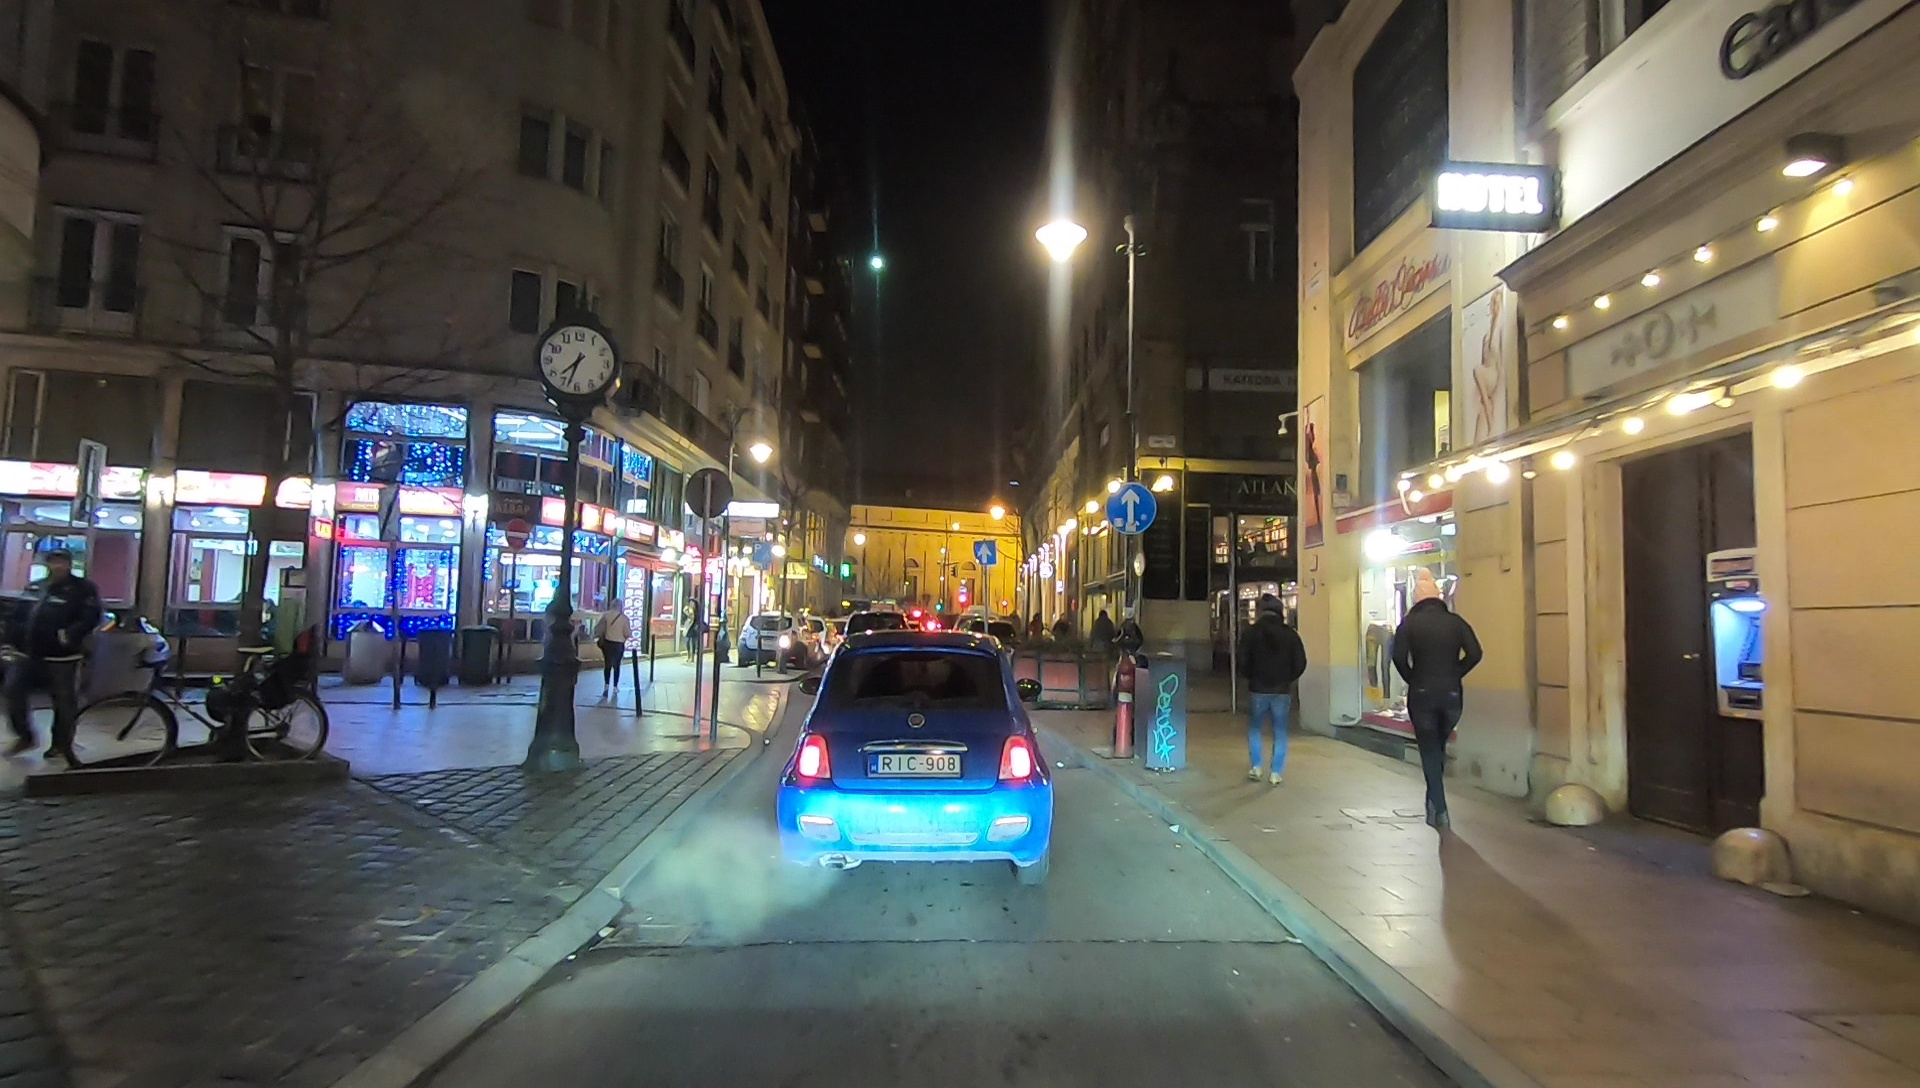person: (1389, 571, 1482, 832), (8, 552, 93, 760), (1232, 587, 1312, 786), (593, 599, 630, 695), (1089, 611, 1115, 686), (1115, 608, 1141, 680), (1054, 611, 1069, 656)
